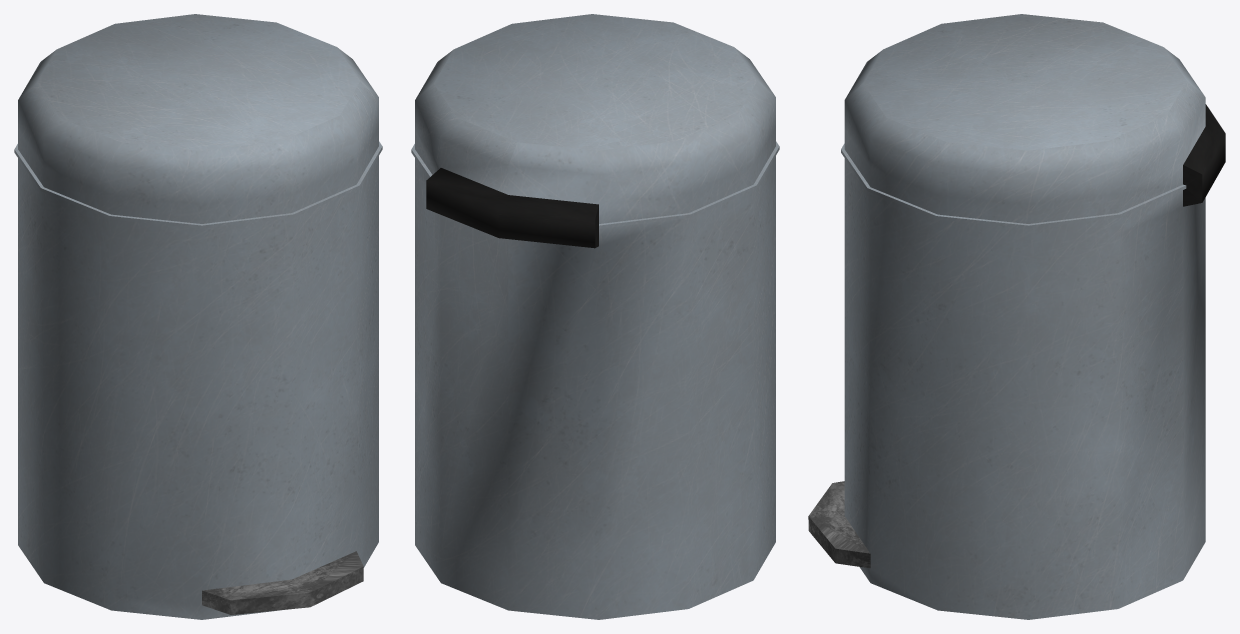
File: Nice_Bin.FBX
3 renders of one model, left to right at view 1: azimuth 30°, elevation 25°; view 2: azimuth 150°, elevation 25°; view 3: azimuth 270°, elevation 25°, orthographic.
Visible parts, largest first — view 1: Bin01; view 2: Bin01; view 3: Bin01.
Part boxes in pixels (box(x1,y1,x2,y2)): Bin01: box(14, 14, 382, 619); Bin01: box(411, 14, 779, 619); Bin01: box(808, 14, 1225, 619).
Size of the model in its own units: 20.07 by 27.76 by 22.74.
1 material, 1 textured.
